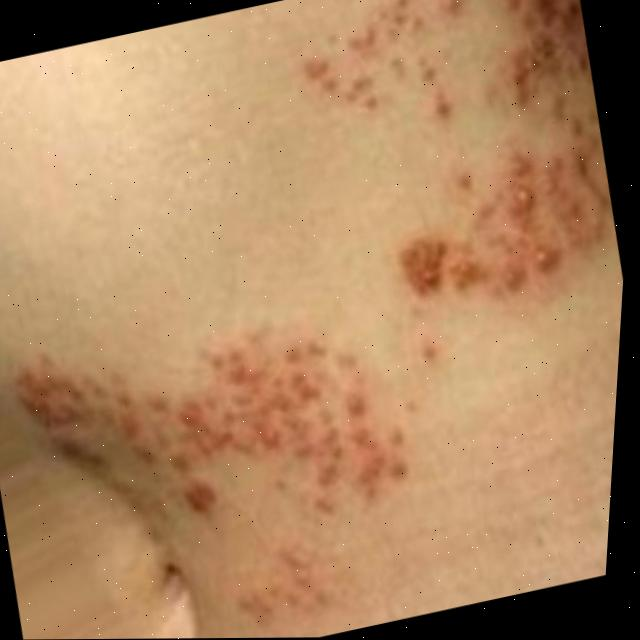Shingles: (2, 282, 426, 640), (320, 0, 636, 316)
